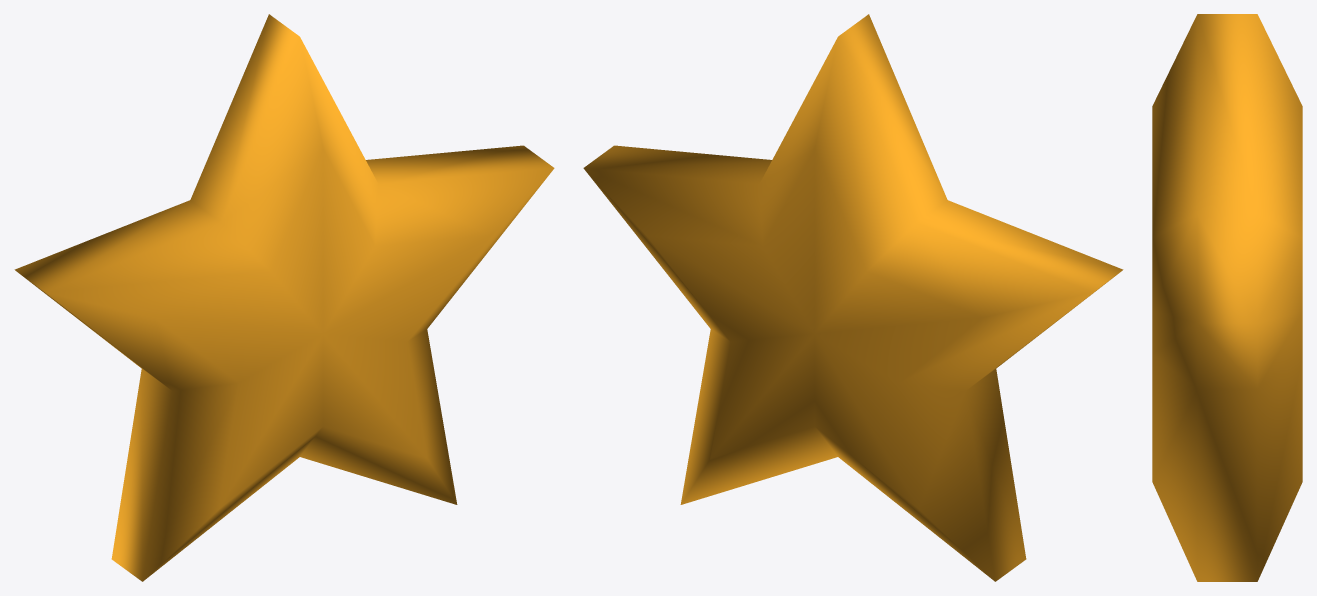
The model's file is 03-STAR-05.fbx.
3 views of the same model, side by side, from view 1: azimuth 30°, elevation 25°; view 2: azimuth 150°, elevation 25°; view 3: azimuth 270°, elevation 25° (orthographic). The views are drawn at different scales.
Visible parts, largest first — view 1: 03-STAR-05; view 2: 03-STAR-05; view 3: 03-STAR-05.
Boxes of the visible parts, <box> form: 03-STAR-05: <box>14,14,554,581</box>; 03-STAR-05: <box>583,14,1123,581</box>; 03-STAR-05: <box>1152,14,1302,581</box>.
Bounding box in the file's own units: 380 × 362 × 100.
